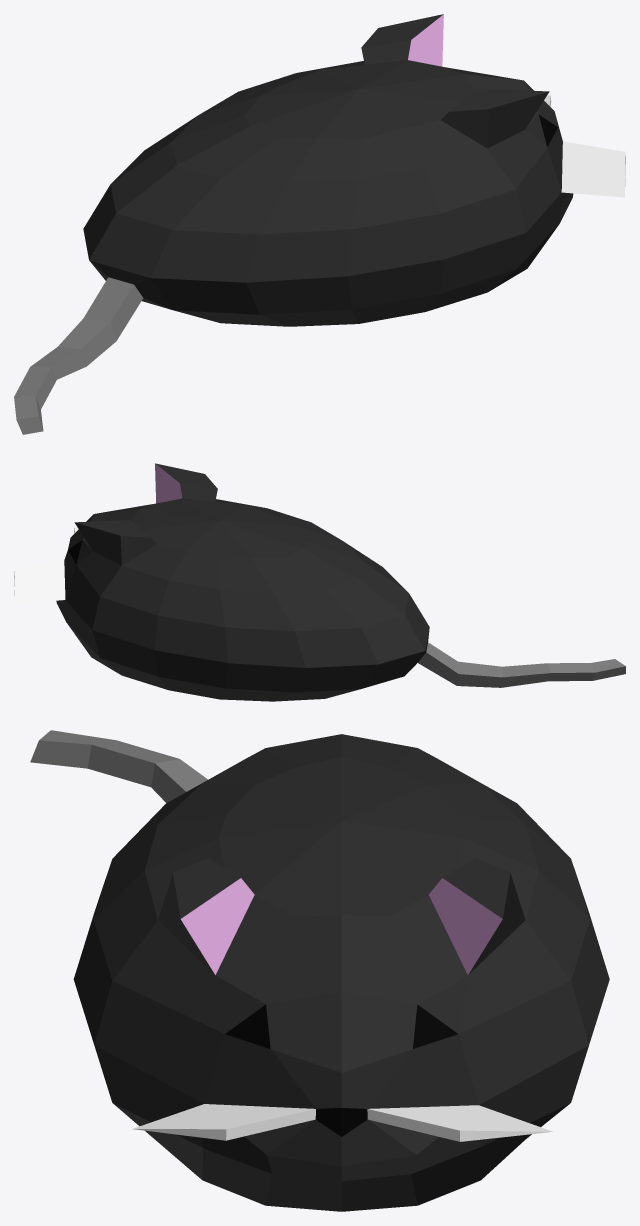
File: cattoy2.glb
3 views of the same model, one above another, from view 1: azimuth 30°, elevation 25°; view 2: azimuth 150°, elevation 25°; view 3: azimuth 270°, elevation 25° (orthographic). The views are drawn at different scales.
Parts seen in each view (by area): view 1: Sphere.003; view 2: Sphere.003; view 3: Sphere.003.
Boxes of the visible parts, <box> form: Sphere.003: <box>14,14,625,434</box>; Sphere.003: <box>14,463,625,701</box>; Sphere.003: <box>30,730,609,1211</box>.
Size of the model in its own units: 0.0536 by 0.0154 by 0.0264.
1 material, 1 textured.
